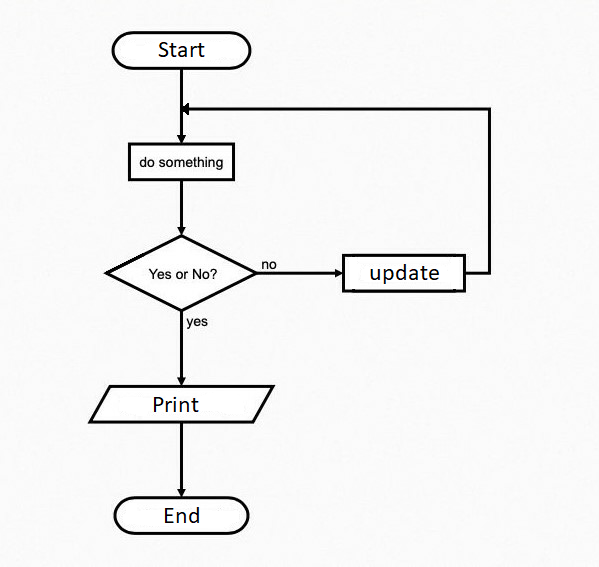arrow: (179, 102, 493, 279), (257, 268, 346, 278), (176, 71, 187, 139), (178, 312, 187, 385), (178, 425, 187, 498), (176, 181, 187, 236)
data: (87, 383, 276, 425)
decision: (106, 236, 257, 308)
process: (340, 251, 468, 294), (127, 140, 237, 184)
terminator: (112, 30, 251, 69), (114, 497, 249, 536)
text: (138, 154, 227, 173), (368, 264, 441, 281), (148, 266, 219, 281), (152, 394, 200, 416), (159, 39, 207, 60), (162, 504, 201, 525), (184, 315, 211, 329), (257, 258, 279, 270)
